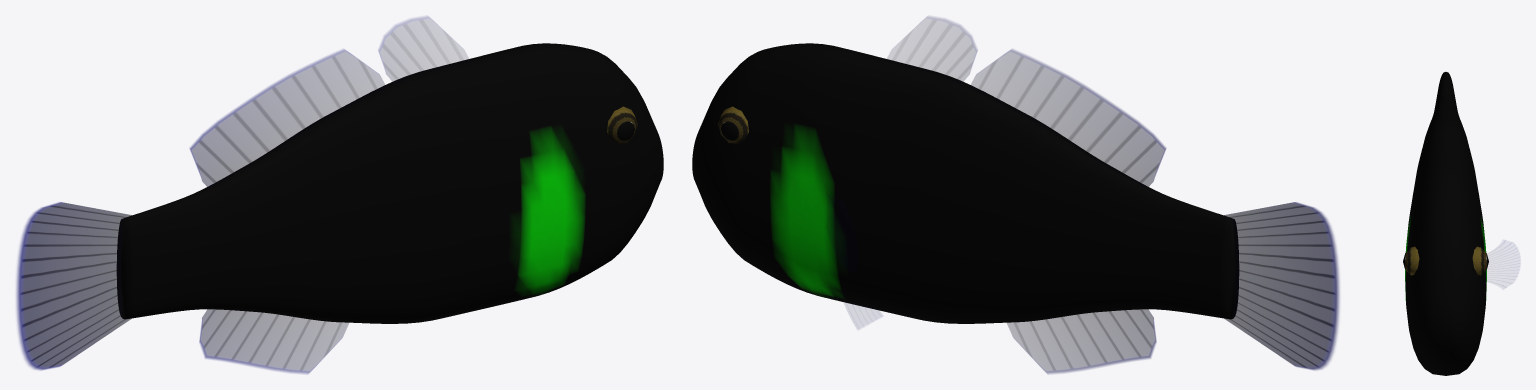
File: clown_goby.glb
The picture shows the model from 3 angles, left to right: view 1: azimuth 30°, elevation 25°; view 2: azimuth 150°, elevation 25°; view 3: azimuth 270°, elevation 25°; orthographic projection. The views are drawn at different scales.
Parts seen in each view (by area): view 1: Body, FinCaudal, FinDorsal2, FinAnal, FinDorsal, EyeR; view 2: Body, FinCaudal, FinDorsal2, FinAnal, FinDorsal, EyeL; view 3: Body, EyeL, EyeR.
Boxes of the visible parts, x1,y1,x2,y2 form: Body: (116,43,663,323); FinCaudal: (16,202,133,370); FinDorsal2: (189,49,386,187); FinAnal: (199,309,348,373); FinDorsal: (378,16,470,83); EyeR: (607,106,637,143); Body: (692,43,1239,323); FinCaudal: (1222,202,1339,370); FinDorsal2: (969,49,1166,187); FinAnal: (1007,309,1156,373); FinDorsal: (885,16,977,83); EyeL: (718,106,748,143); Body: (1405,72,1486,375); EyeL: (1472,246,1488,275); EyeR: (1403,246,1419,275).
Bounding box in the file's own units: 1 × 0.4951 × 0.2591.
4 materials, 3 textured.
